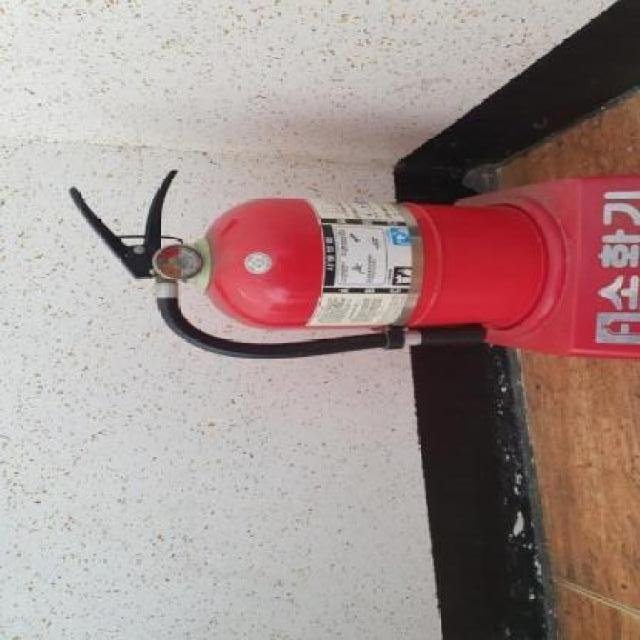fire extinguisher: (69, 170, 548, 361)
